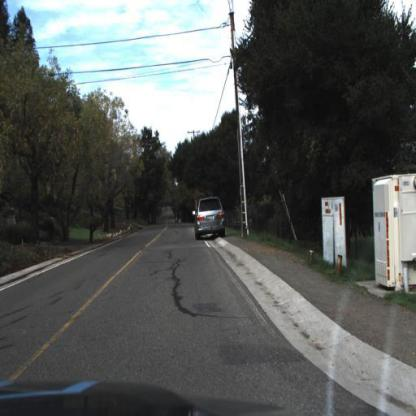car: (189, 191, 231, 249)
